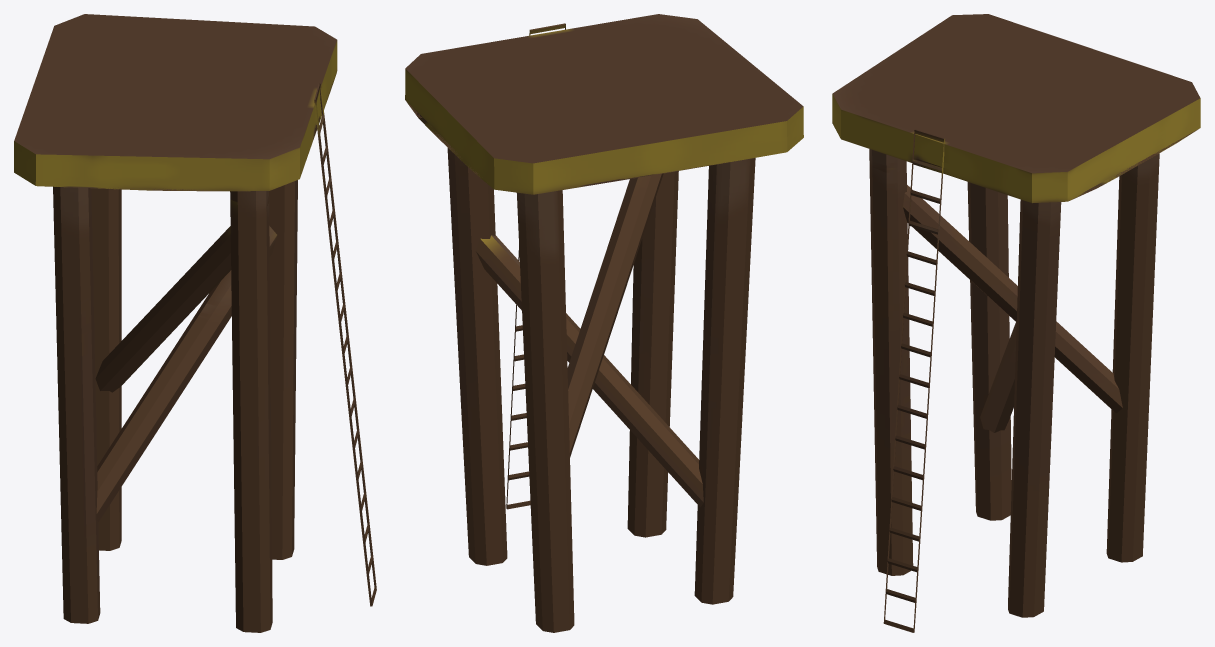
File: defense_tower.fbx
3 views of the same model, side by side, from view 1: azimuth 30°, elevation 25°; view 2: azimuth 150°, elevation 25°; view 3: azimuth 270°, elevation 25° (orthographic). The views are drawn at different scales.
Visible parts, largest first — view 1: Cube; view 2: Cube; view 3: Cube.
Part boxes in pixels (x1,y1,x2,y2): Cube: (14, 14, 376, 632); Cube: (405, 14, 803, 632); Cube: (832, 14, 1200, 632).
Bounding box in the file's own units: 398 × 555 × 389.
